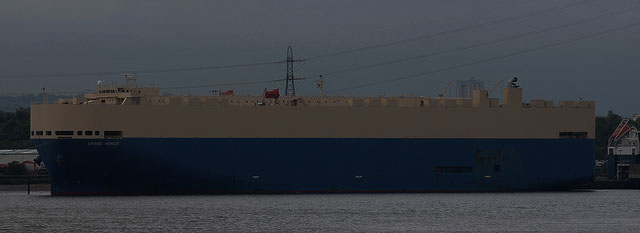PCC: (29, 72, 598, 191)
